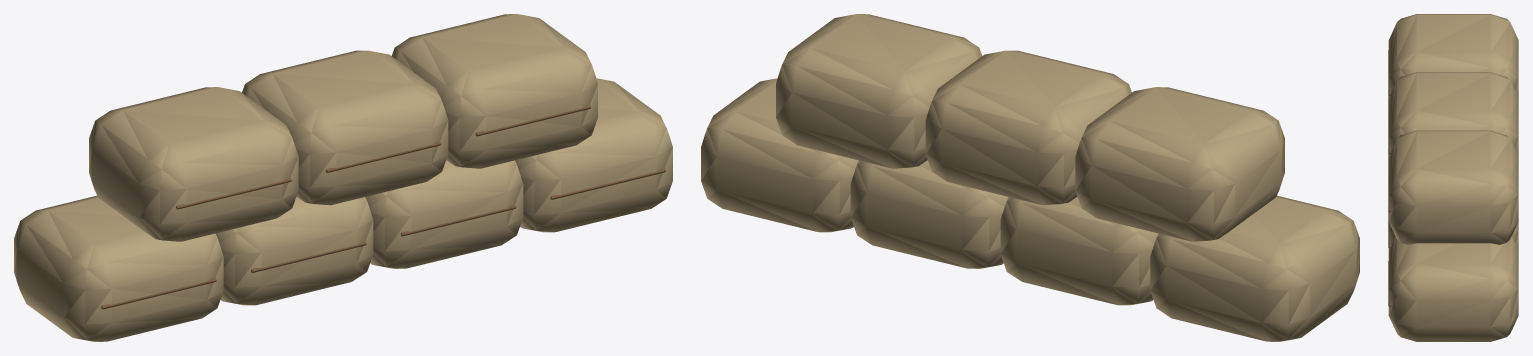
Rendered from sandbags.glb.
3 renders of one model, left to right at view 1: azimuth 30°, elevation 25°; view 2: azimuth 150°, elevation 25°; view 3: azimuth 270°, elevation 25°, orthographic. The views are drawn at different scales.
Parts seen in each view (by area): view 1: Keep_Mesh; view 2: Keep_Mesh; view 3: Keep_Mesh.
Part boxes in pixels (box(x1,y1,x2,y2)): Keep_Mesh: box(14, 14, 672, 341); Keep_Mesh: box(701, 14, 1359, 341); Keep_Mesh: box(1388, 14, 1518, 341).
Bounding box in the file's own units: 2.79 × 0.79 × 0.652.
